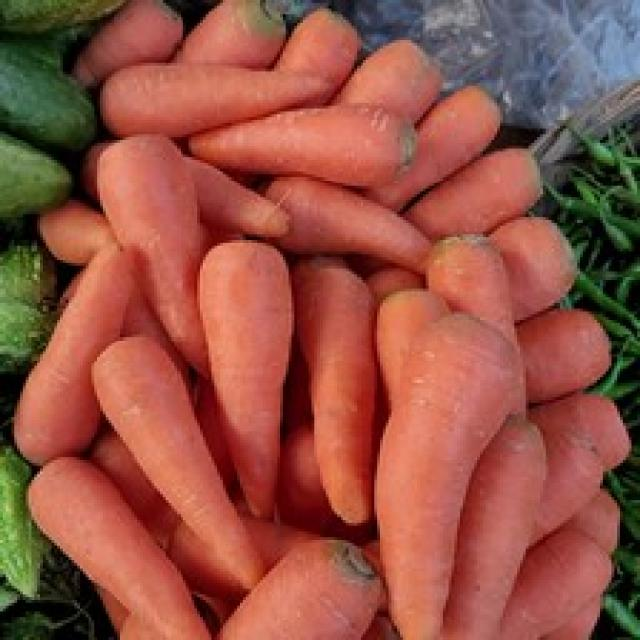Fresh_Carrot: (62, 338, 272, 584), (379, 301, 515, 640), (79, 122, 235, 368), (199, 238, 294, 510), (293, 255, 388, 524), (436, 225, 535, 432), (98, 60, 334, 133), (204, 109, 422, 179)
